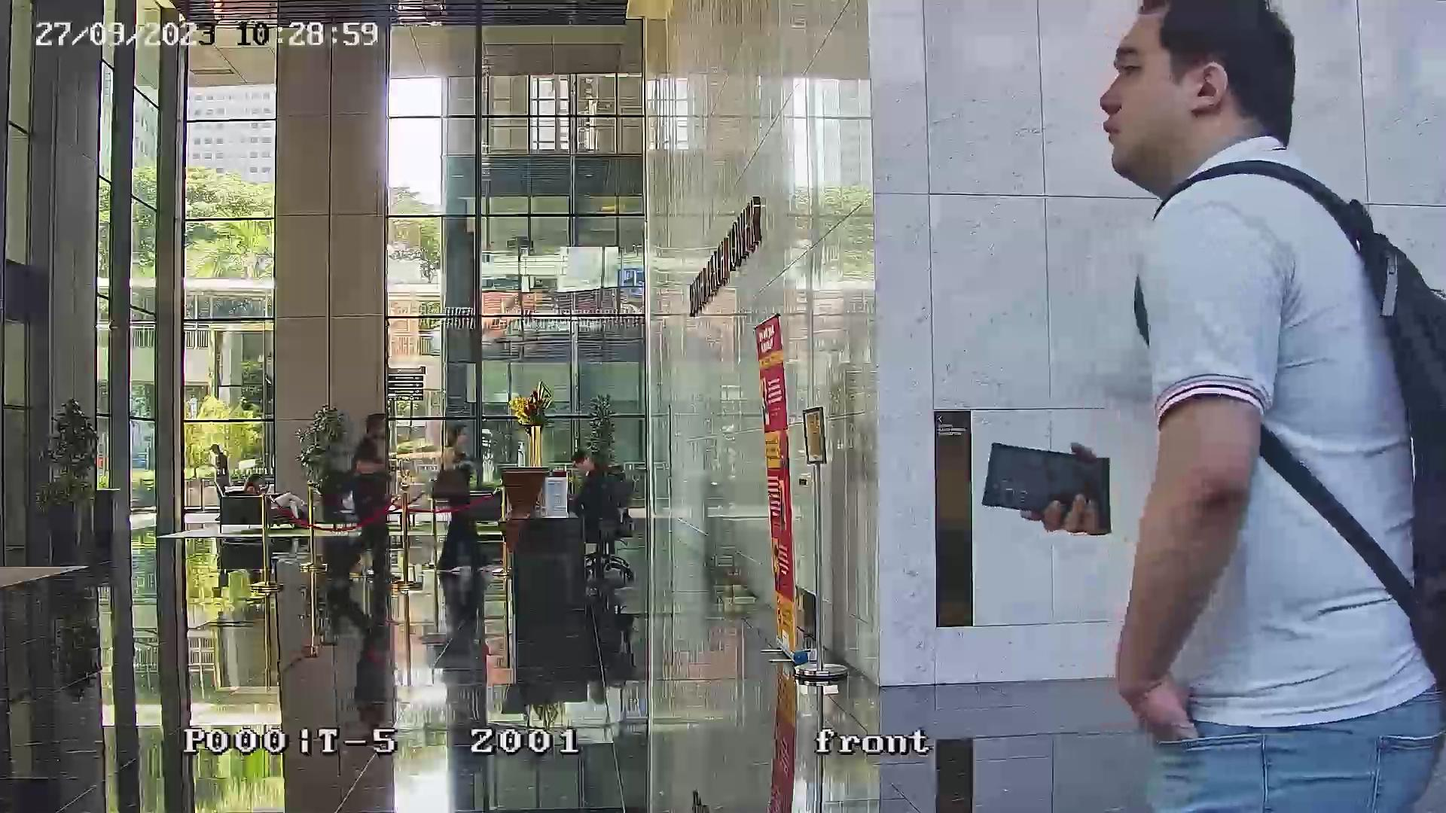person: (1094, 1, 1446, 796), (429, 425, 502, 572), (348, 413, 396, 592), (246, 472, 313, 529), (572, 449, 619, 529), (210, 442, 231, 521)
